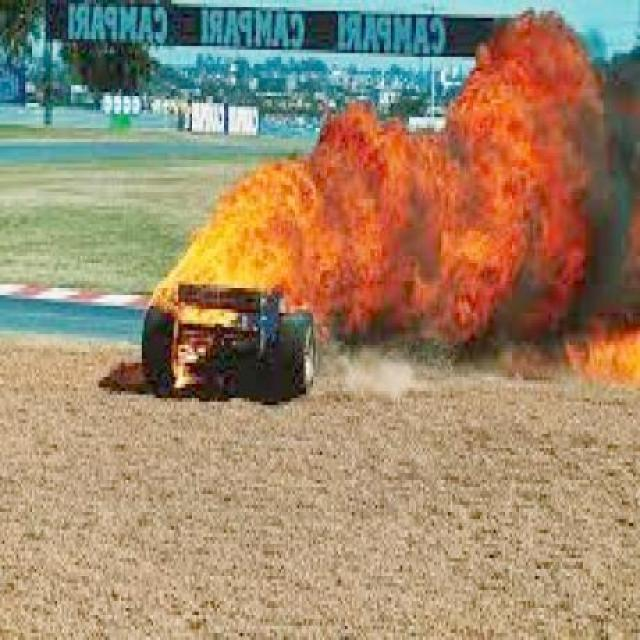Fire: (171, 15, 609, 371)
